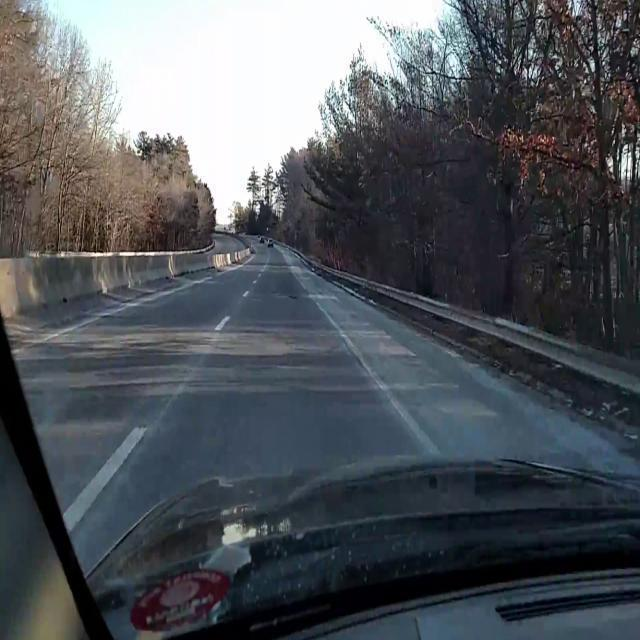pothole: (286, 294, 298, 300)
